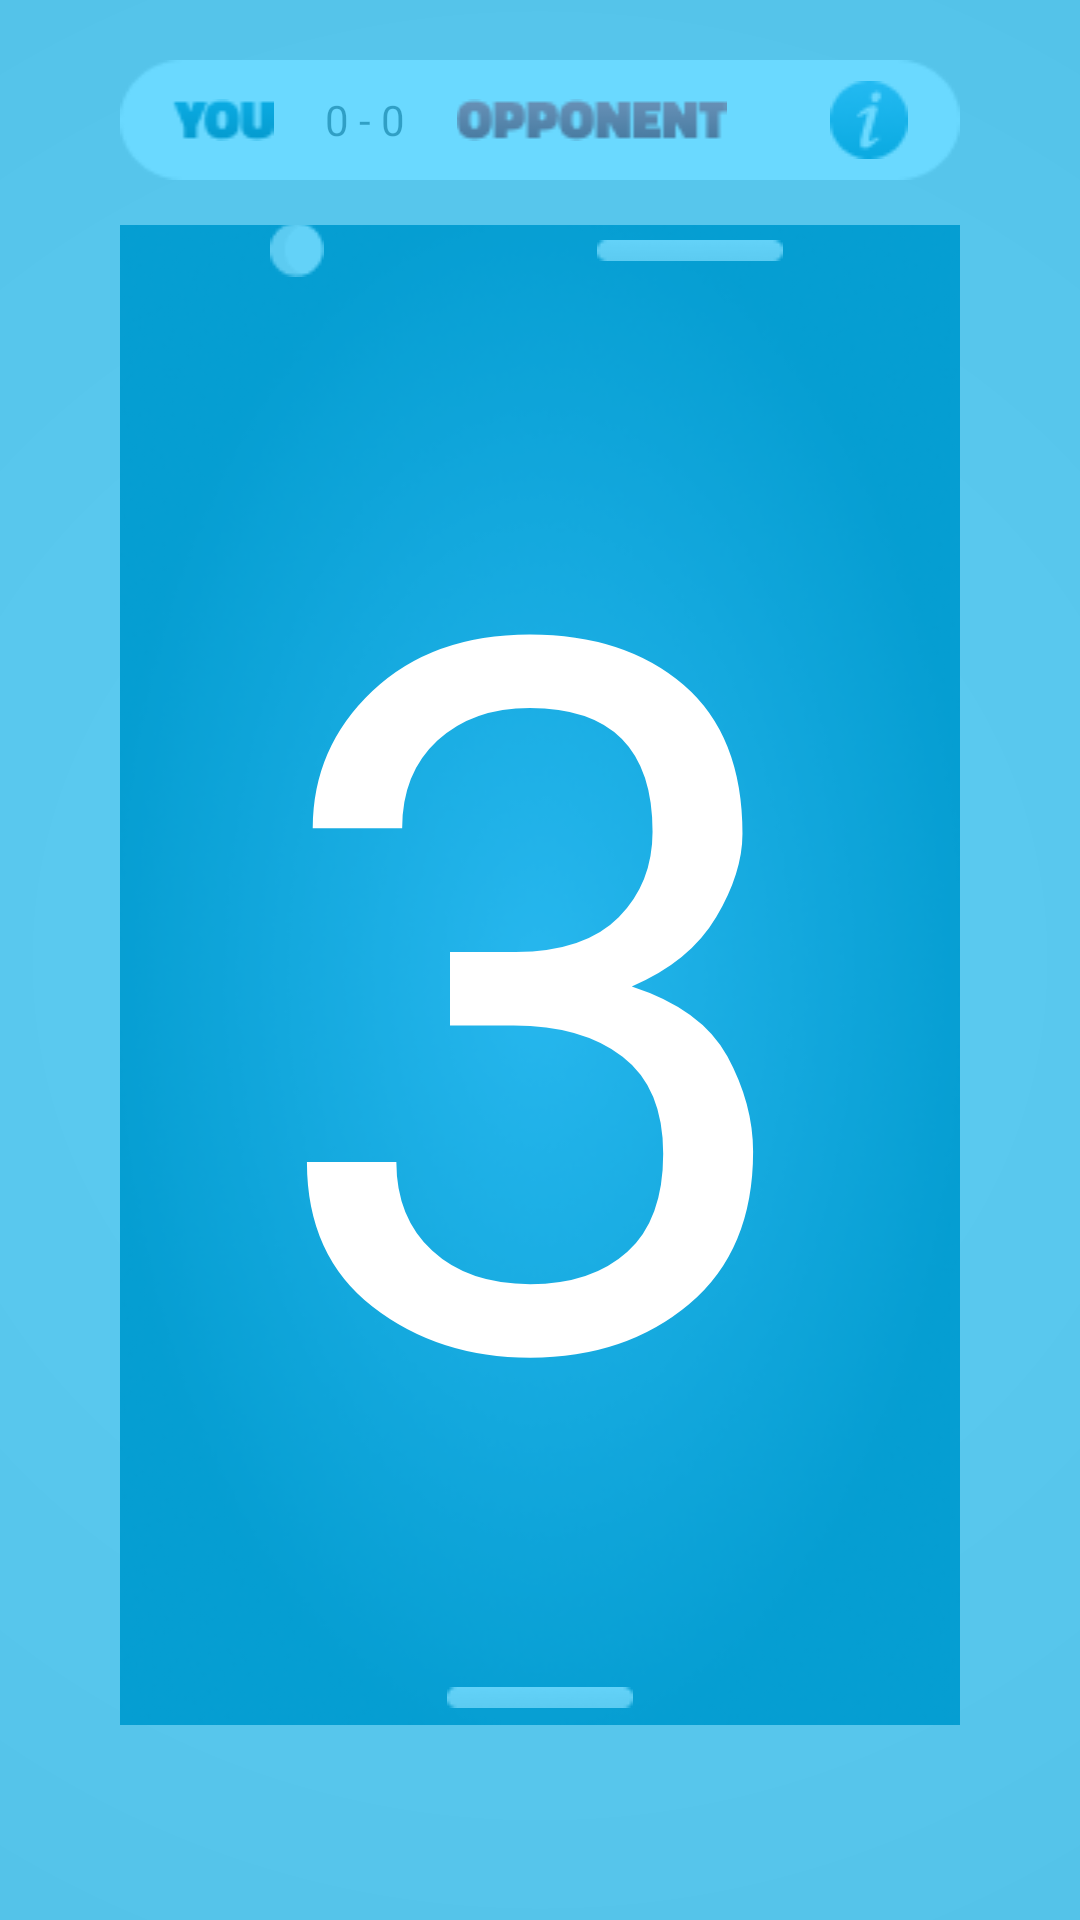

Screen size 1080 × 1920. Icon name, then its box in pixels as (x1,y1,x2,y2):
info: (830,81,908,159)
